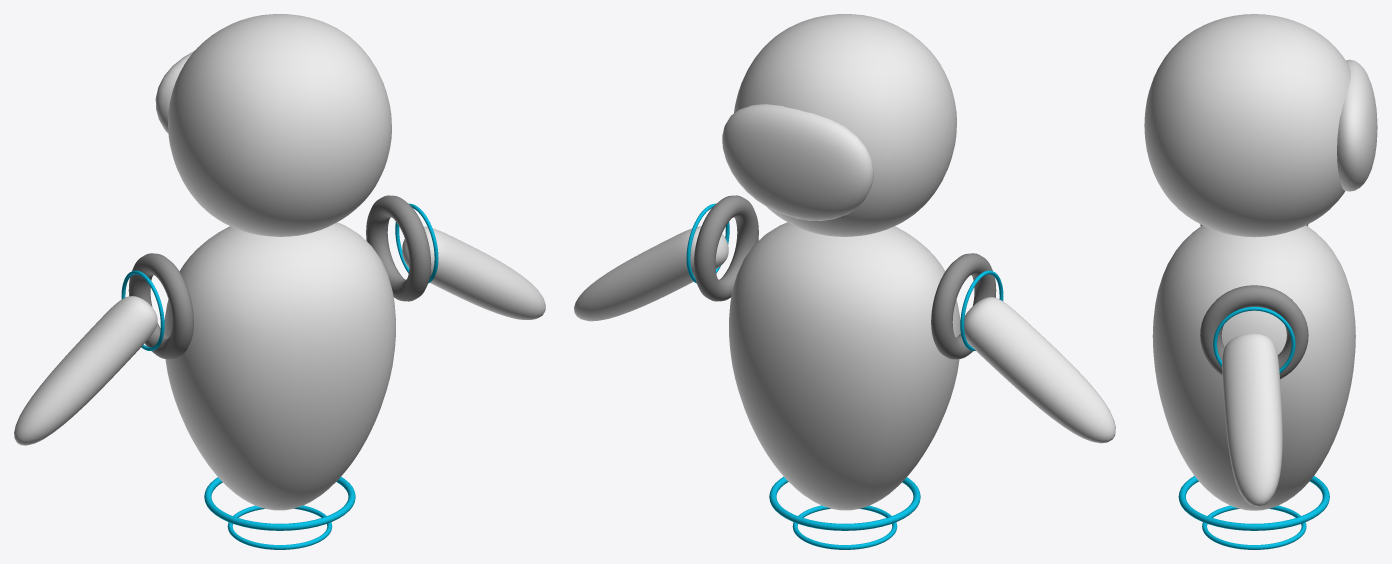
The model's file is bot1.fbx.
The picture shows the model from 3 angles, left to right: view 1: azimuth 30°, elevation 25°; view 2: azimuth 150°, elevation 25°; view 3: azimuth 270°, elevation 25°; orthographic projection.
Parts seen in each view (by area): view 1: Cube.001, Cube.003, Cube.004, Cube.005, Torus.003, Torus.002, Torus.004, Torus.005, Cube; view 2: Cube.001, Cube.003, Cube, Cube.004, Cube.005, Torus.003, Torus.002, Torus.004, Torus.005; view 3: Cube.003, Cube.001, Cube.005, Cube, Torus.003, Torus.004, Torus.005, Torus.006.
Boxes of the visible parts, x1=… form: Cube.001: x1=164, y1=222, x2=395, y2=510; Cube.003: x1=168, y1=14, x2=391, y2=236; Cube.004: x1=14, y1=296, x2=157, y2=445; Cube.005: x1=402, y1=226, x2=545, y2=319; Torus.003: x1=366, y1=195, x2=431, y2=301; Torus.002: x1=128, y1=253, x2=193, y2=359; Torus.004: x1=204, y1=476, x2=355, y2=530; Torus.005: x1=227, y1=505, x2=332, y2=549; Cube: x1=155, y1=51, x2=193, y2=133; Cube.001: x1=729, y1=222, x2=960, y2=510; Cube.003: x1=734, y1=14, x2=956, y2=236; Cube: x1=722, y1=104, x2=873, y2=220; Cube.004: x1=964, y1=297, x2=1115, y2=443; Cube.005: x1=574, y1=226, x2=728, y2=321; Torus.003: x1=693, y1=195, x2=758, y2=301; Torus.002: x1=931, y1=253, x2=996, y2=359; Torus.004: x1=769, y1=476, x2=920, y2=530; Torus.005: x1=792, y1=505, x2=897, y2=549; Cube.003: x1=1144, y1=14, x2=1350, y2=237; Cube.001: x1=1152, y1=225, x2=1355, y2=510; Cube.005: x1=1222, y1=333, x2=1282, y2=506; Cube: x1=1337, y1=59, x2=1377, y2=191; Torus.003: x1=1200, y1=285, x2=1308, y2=379; Torus.004: x1=1178, y1=476, x2=1329, y2=530; Torus.005: x1=1202, y1=505, x2=1306, y2=549; Torus.006: x1=1213, y1=306, x2=1295, y2=373.
Size of the model in its own units: 584 by 527 by 221.
